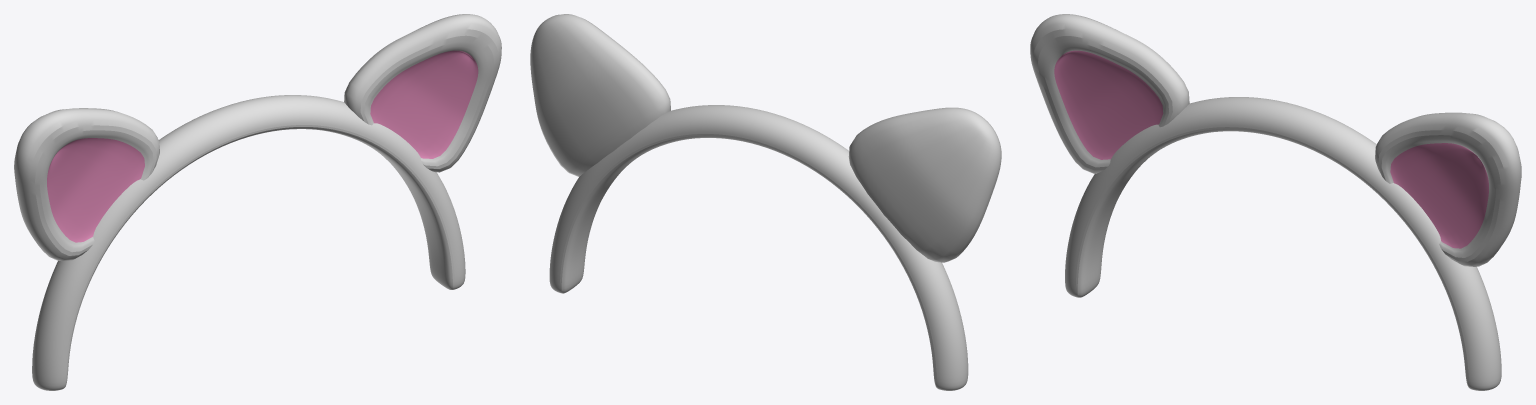
File: geo_furryHeadband.fbx
3 views of the same model, side by side, from view 1: azimuth 30°, elevation 25°; view 2: azimuth 150°, elevation 25°; view 3: azimuth 330°, elevation 25° (orthographic). The views are drawn at different scales.
Parts seen in each view (by area): view 1: FurryHairband; view 2: FurryHairband; view 3: FurryHairband.
Boxes of the visible parts, box(x1,y1,x2,y2) form: FurryHairband: box(14, 14, 501, 390); FurryHairband: box(530, 14, 1001, 390); FurryHairband: box(1030, 14, 1521, 390).
Size of the model in its own units: 117 by 65.02 by 11.27.
